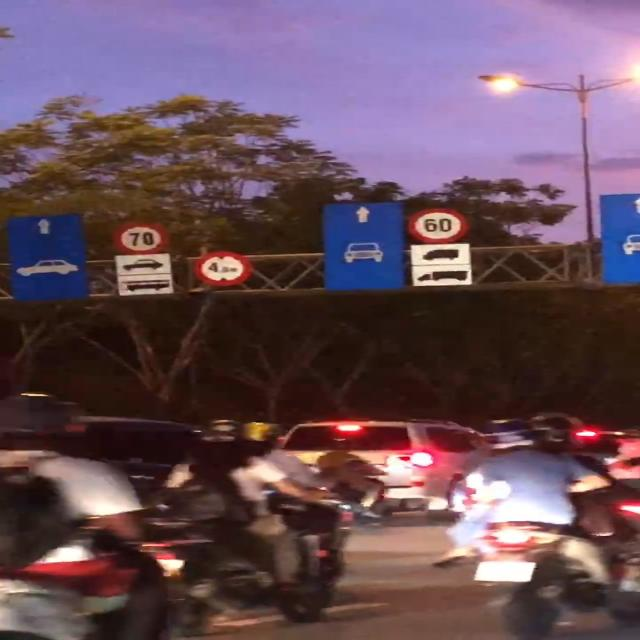Bien bao han che chieu cao: (195, 250, 252, 287)
Bien bao toc do toi da cho phep: (404, 207, 472, 244), (108, 222, 170, 260)
